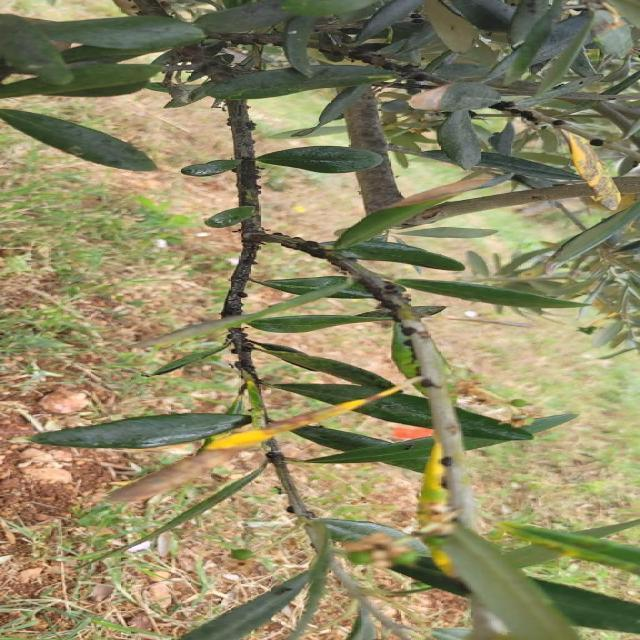BlackScale: (222, 100, 261, 318), (348, 48, 444, 88), (358, 275, 419, 336), (266, 232, 336, 264), (228, 328, 258, 388), (490, 101, 544, 125), (270, 441, 284, 468), (548, 120, 564, 126), (591, 138, 603, 146)
OlivePeacockSpot: (562, 130, 620, 209)
